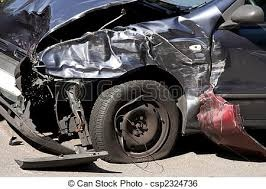Scratch: (175, 46, 204, 87)
Smashed: (8, 15, 225, 149)
